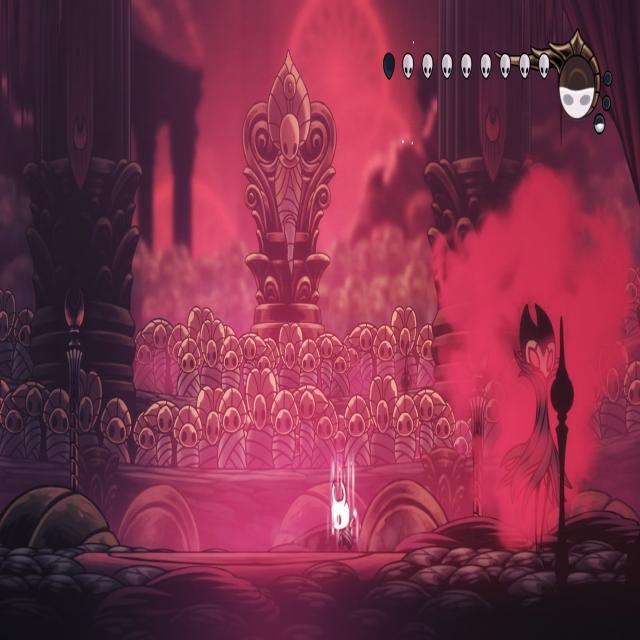Grimm: (494, 289, 570, 550)
Player: (329, 464, 359, 556)
